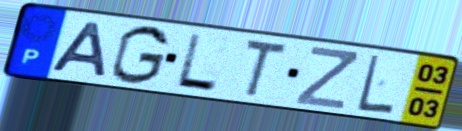A: (48, 19, 109, 80)
G: (108, 23, 172, 87)
L: (173, 31, 221, 95), (355, 52, 397, 116)
T: (241, 36, 290, 101)
Z: (292, 44, 361, 112)
